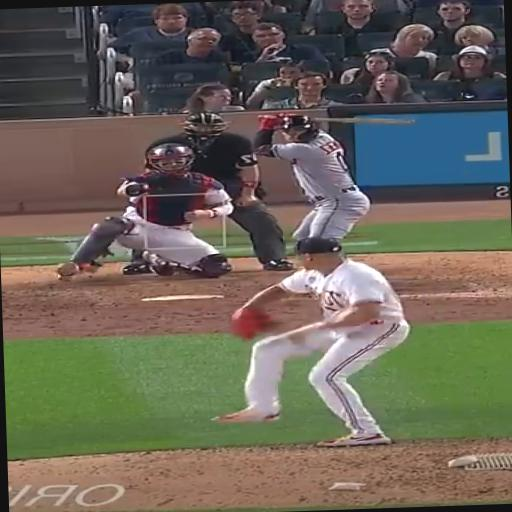bat: (314, 117, 414, 125)
